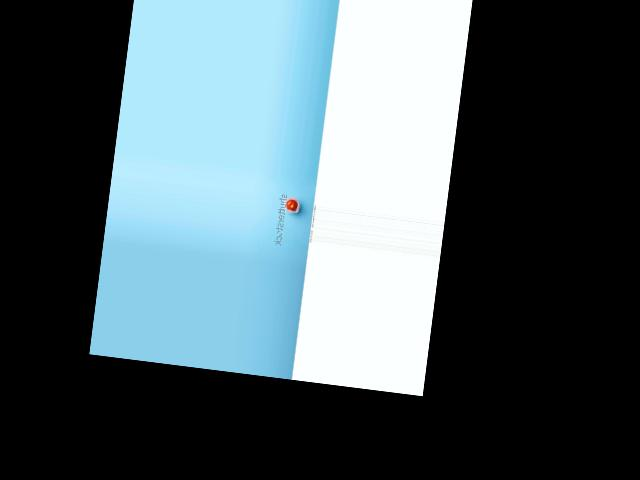tomato: (285, 199, 298, 211)
